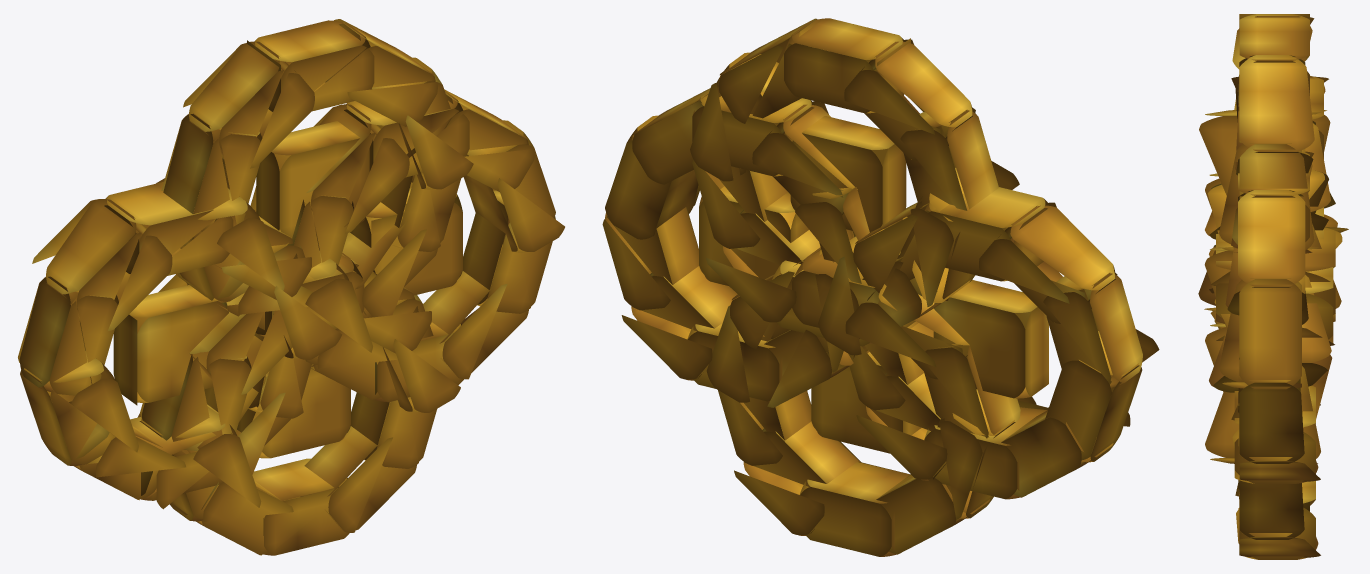
The model's file is stolen_coin.obj.
3 views of the same model, side by side, from view 1: azimuth 30°, elevation 25°; view 2: azimuth 150°, elevation 25°; view 3: azimuth 270°, elevation 25° (orthographic). The views are drawn at different scales.
Parts seen in each view (by area): view 1: lit; view 2: lit; view 3: lit.
Part boxes in pixels (<box>): lit: <box>18,19,564,555</box>; lit: <box>602,18,1159,556</box>; lit: <box>1198,14,1348,559</box>.
Size of the model in its own units: 0.6318 by 0.5808 by 0.1665.
